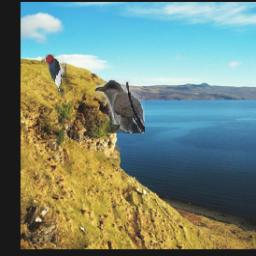Cuckoo: (96, 79, 146, 134)
Woodpecker: (42, 54, 67, 97)
